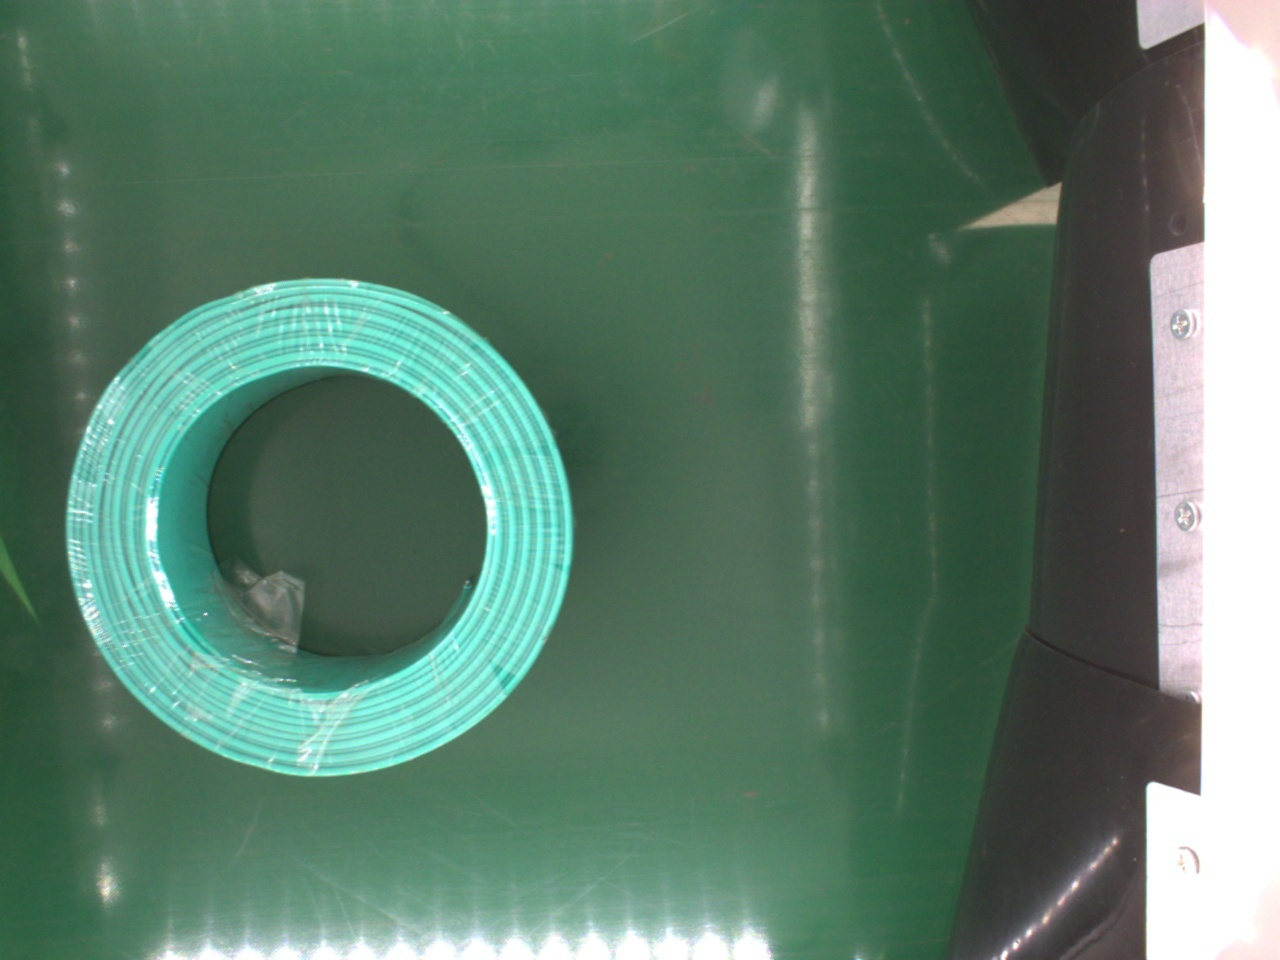green: (65, 278, 577, 784)
